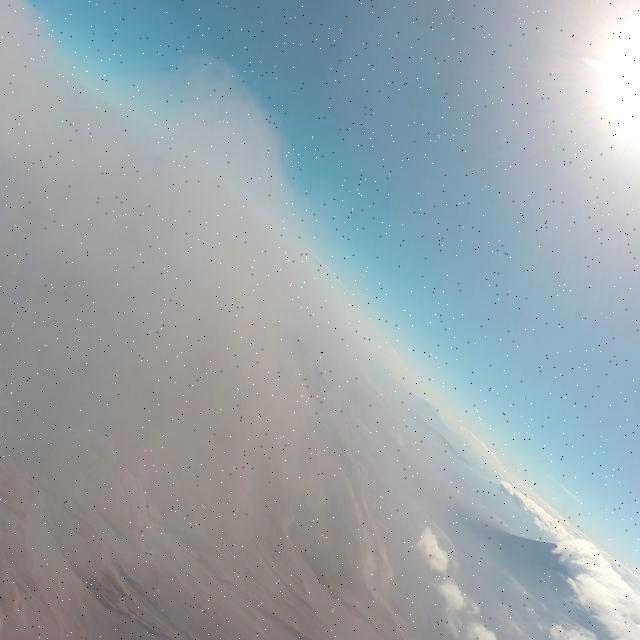Plume: (0, 52, 303, 554)
